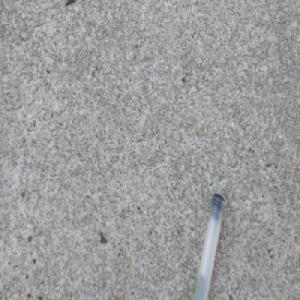Pen: (190, 188, 226, 300)
